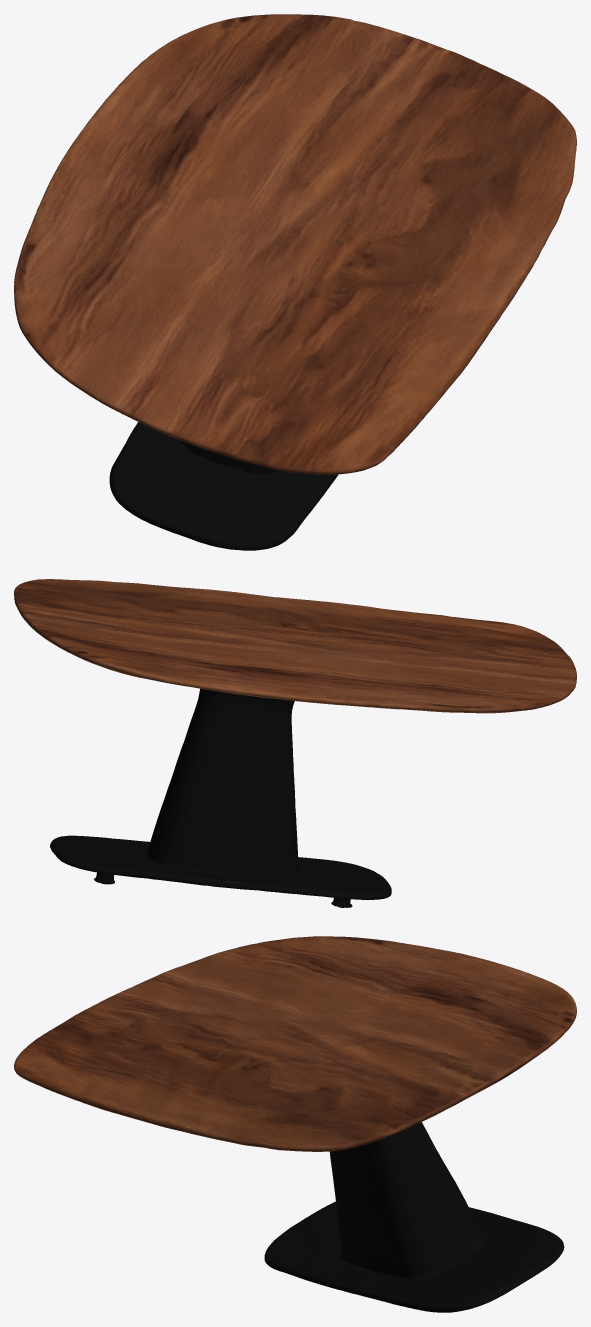
3 views of the same model, one above another, from view 1: azimuth 30°, elevation 25°; view 2: azimuth 150°, elevation 25°; view 3: azimuth 270°, elevation 25° (orthographic). The views are drawn at different scales.
Size of the model in its own units: 0.8405 by 0.5056 by 0.8295.
1 material, 1 textured.
